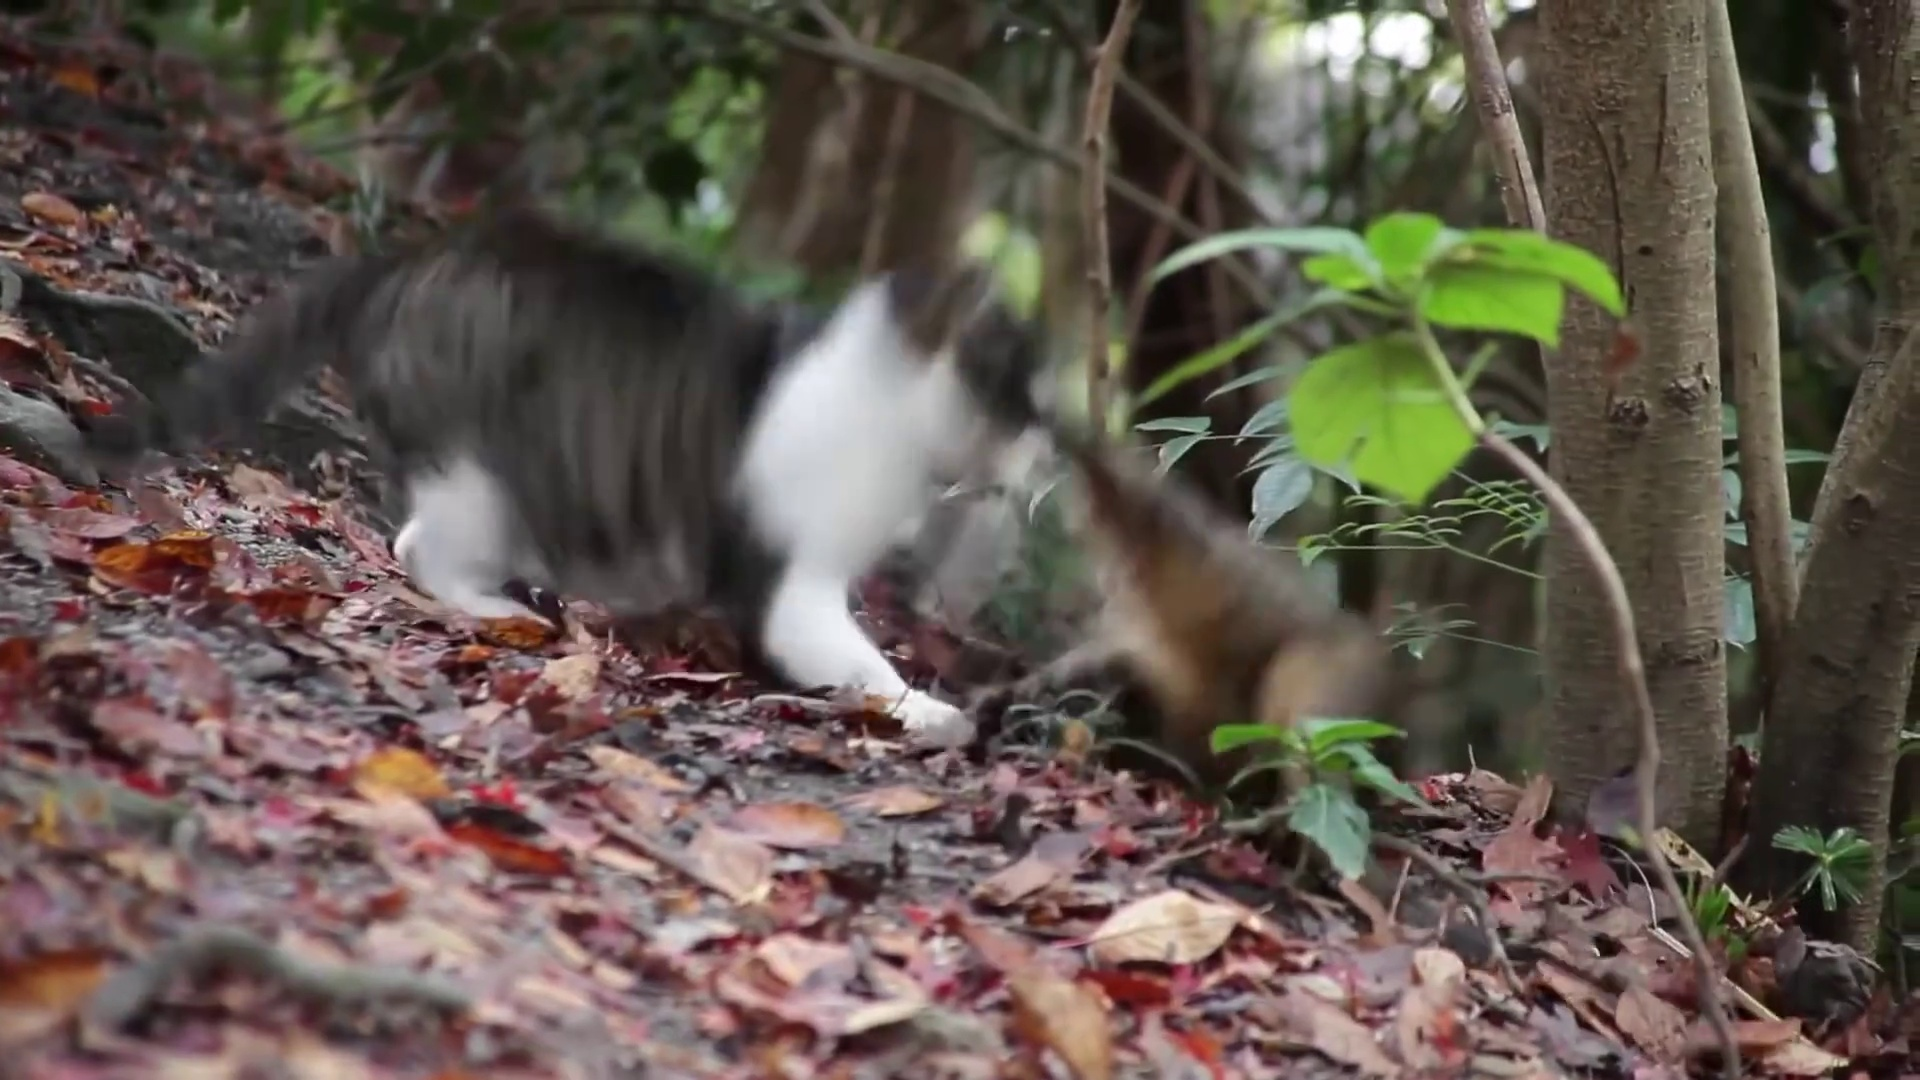black-white: (91, 215, 1040, 725)
pure black: (1055, 435, 1391, 765)
